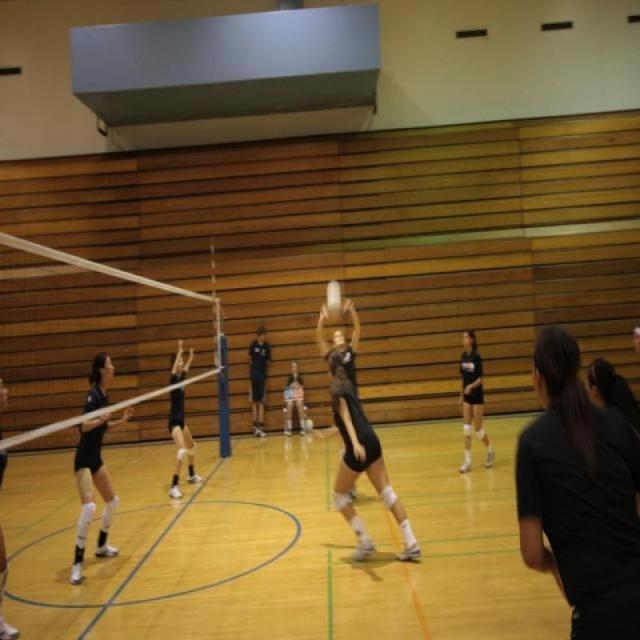volleyball: (325, 276, 343, 318)
